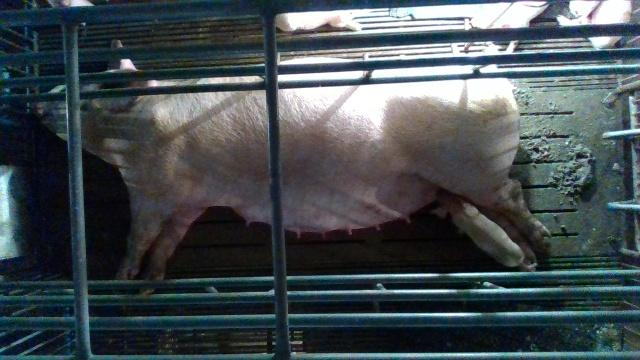piglet: (558, 0, 632, 48), (277, 11, 366, 32)
sow-sleep-lactate: (35, 34, 561, 295)
